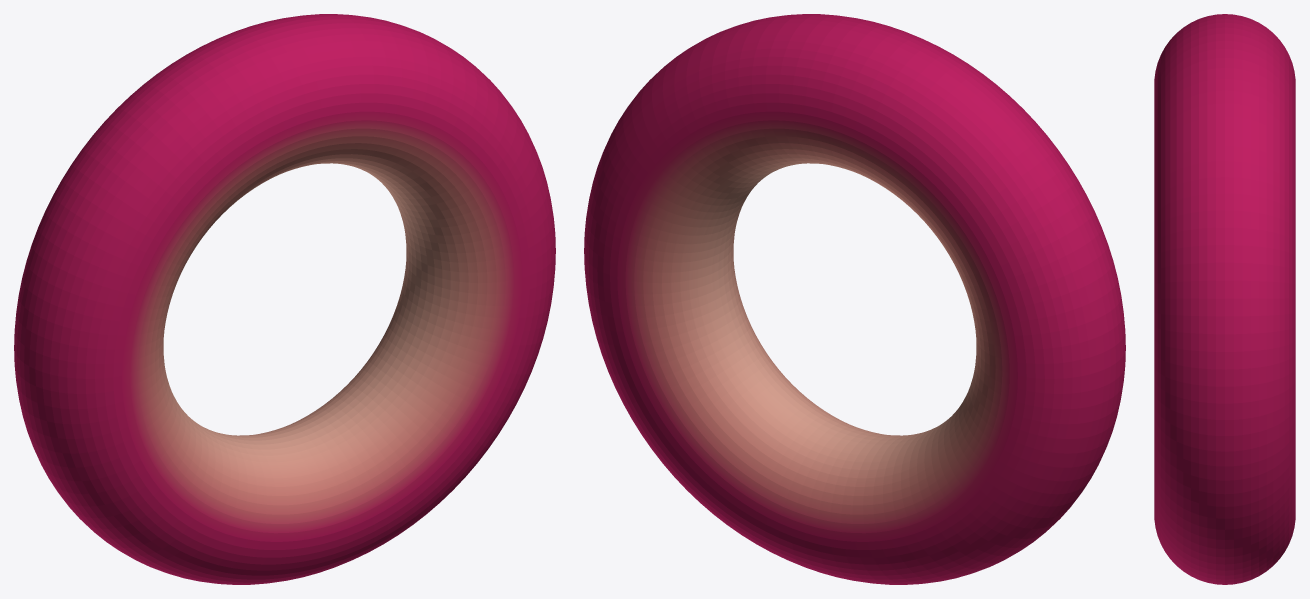
The picture shows the model from 3 angles, left to right: view 1: azimuth 30°, elevation 25°; view 2: azimuth 150°, elevation 25°; view 3: azimuth 270°, elevation 25°; orthographic projection. The views are drawn at different scales.
Visible parts, largest first — view 1: world; view 2: world; view 3: world.
Boxes of the visible parts, left/top/right/bottom form: world: left=14, top=14, right=555, bottom=584; world: left=584, top=14, right=1125, bottom=584; world: left=1154, top=14, right=1295, bottom=584.
Size of the model in its own units: 17.73 by 17.73 by 4.39.
